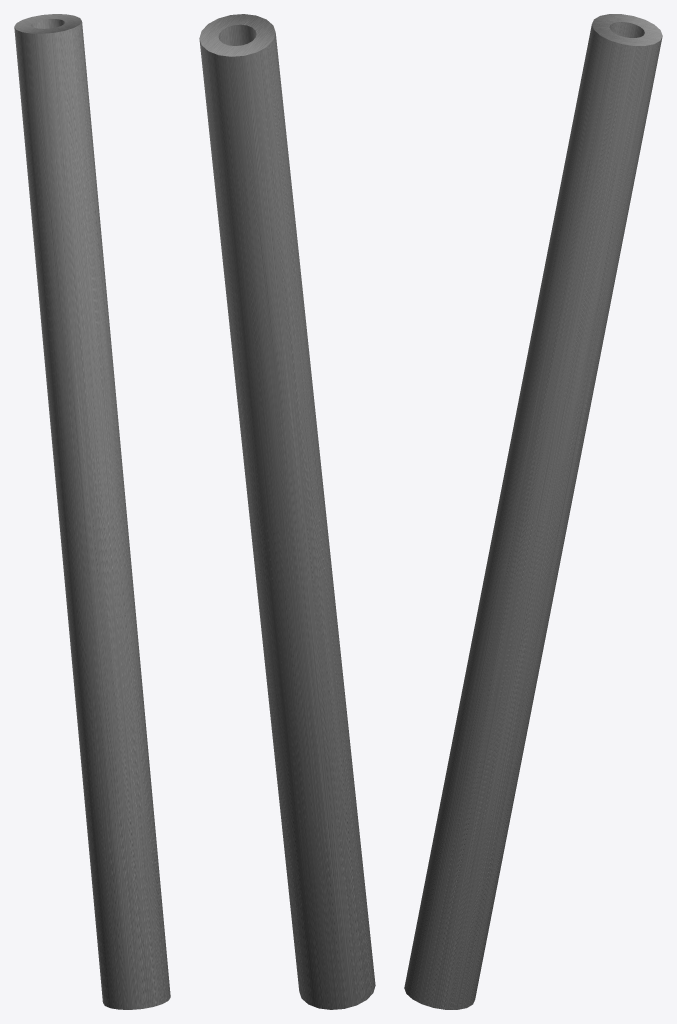
File: Pipe.obj
The picture shows the model from 3 angles, left to right: view 1: azimuth 30°, elevation 25°; view 2: azimuth 150°, elevation 25°; view 3: azimuth 270°, elevation 25°; orthographic projection. The views are drawn at different scales.
Parts seen in each view (by area): view 1: Tube001; view 2: Tube001; view 3: Tube001.
Boxes of the visible parts, x1,y1,x2,y2 form: Tube001: (14,14,170,1009); Tube001: (199,14,375,1009); Tube001: (404,14,662,1009).
Size of the model in its own units: 3.1 by 47.07 by 11.31.
